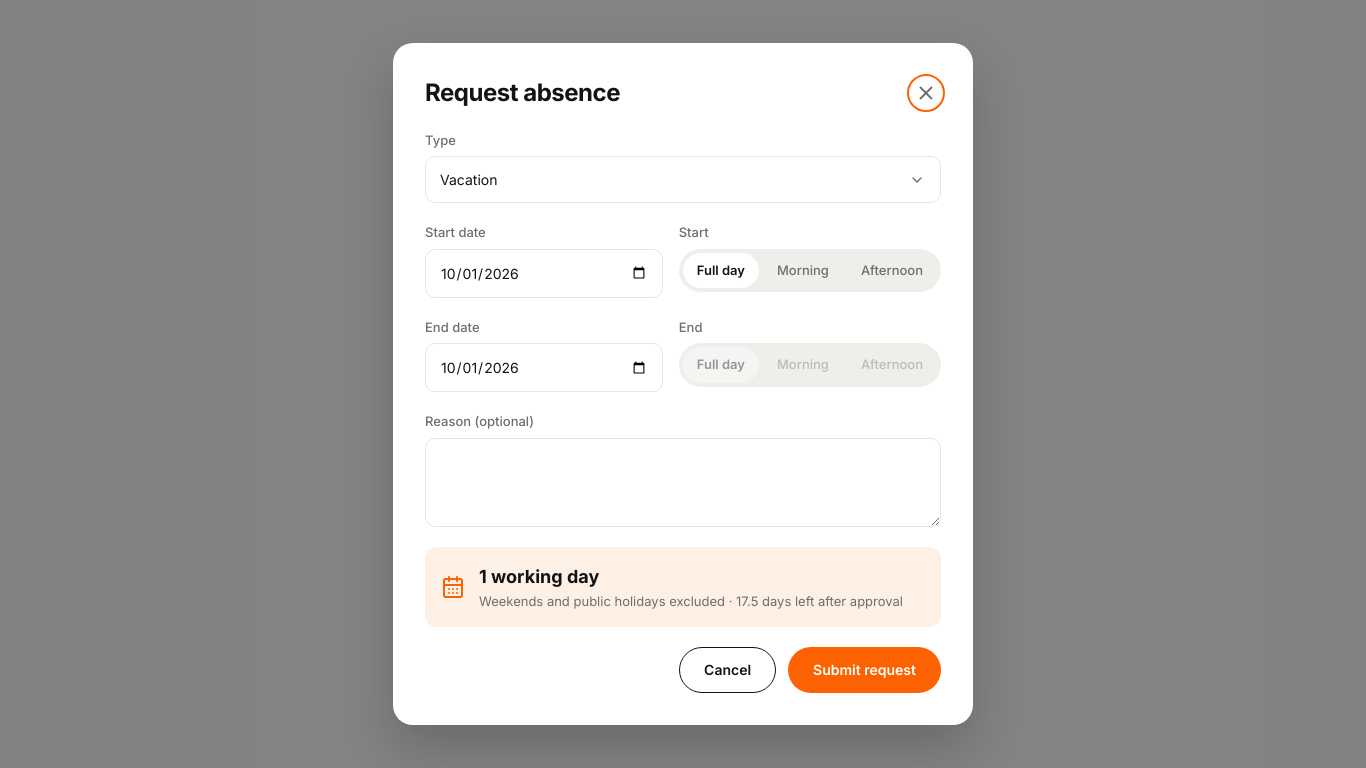
Test: RequestAbsenceDialog › warns and blocks the submit when the range has no working days
The width and height of the screenshot is (1366, 768).
Type "2026-10-03" into the date field labelled "Start date". click: [544, 273]
box: x1=425 y1=249 x2=663 y2=298
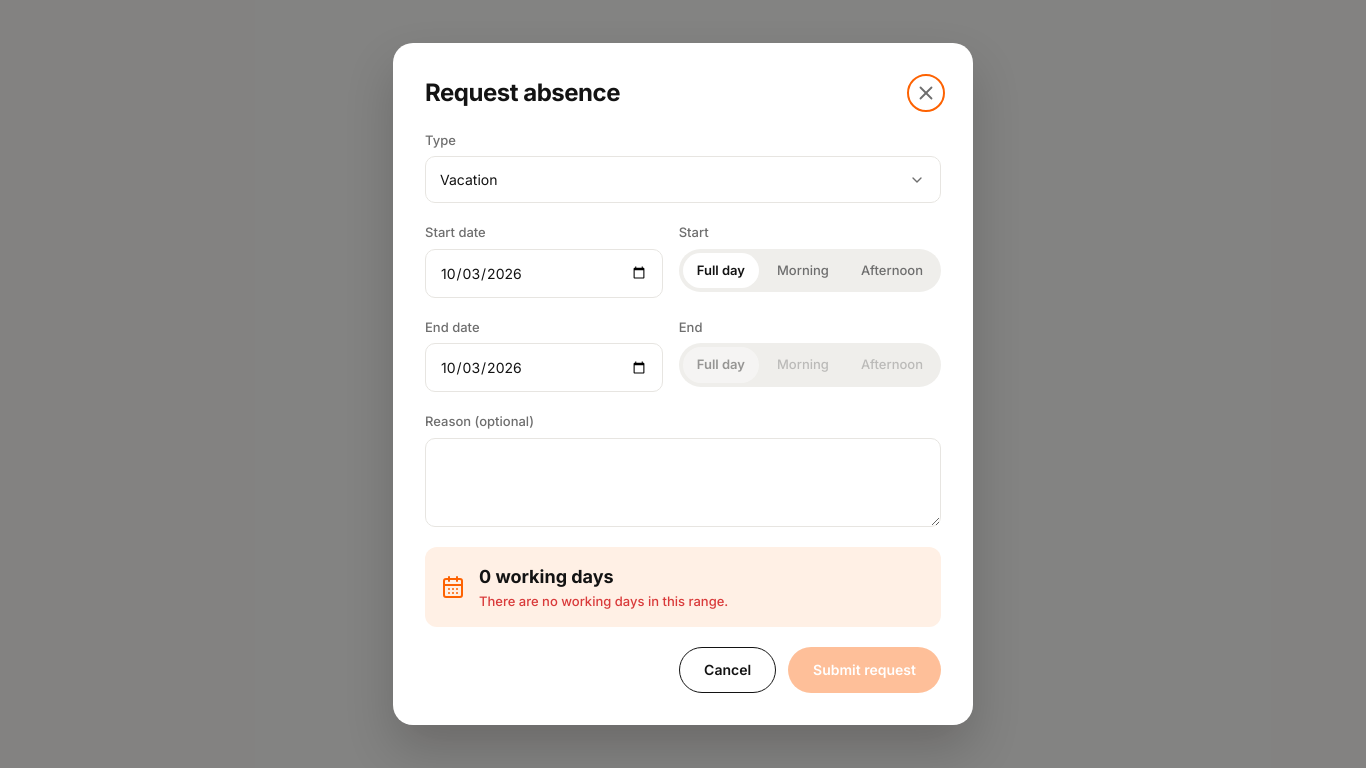
Expected: the submit button is disabled, x1=788 y1=647 x2=941 y2=693
